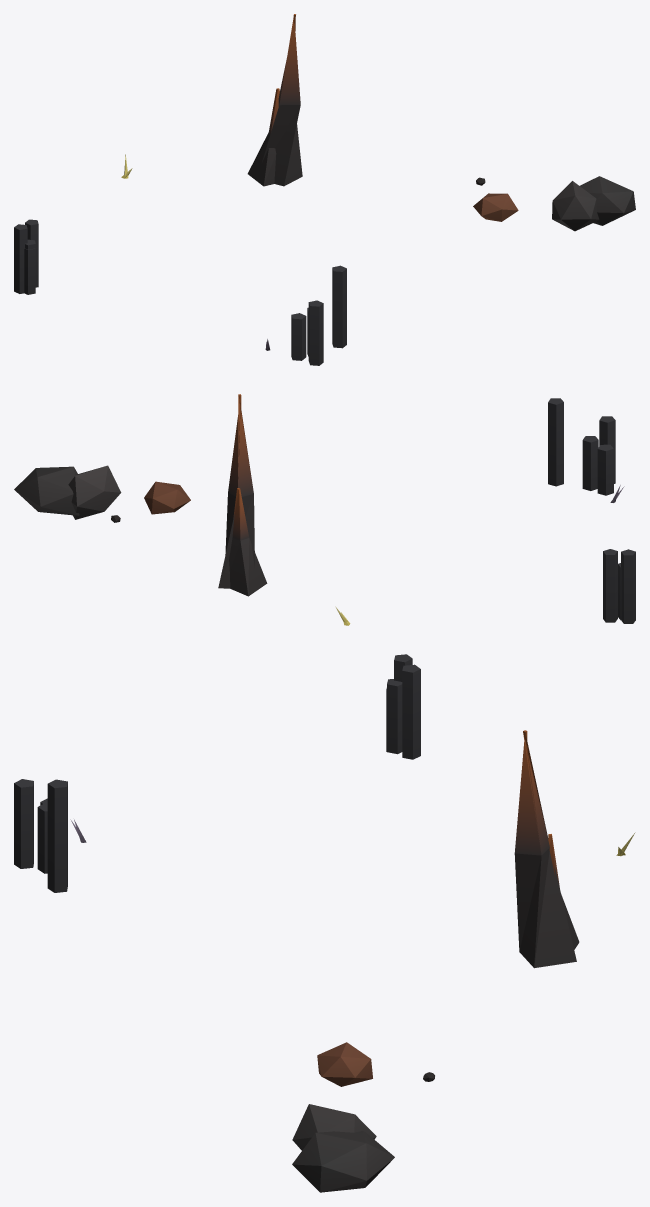
File: ash_land_scatter_c17_29_lod1.glb
3 views of the same model, one above another, from view 1: azimuth 30°, elevation 25°; view 2: azimuth 150°, elevation 25°; view 3: azimuth 270°, elevation 25° (orthographic). The views are drawn at different scales.
Visible parts, largest first — view 1: ash_land_scatter_c17_29_lod1; view 2: ash_land_scatter_c17_29_lod1; view 3: ash_land_scatter_c17_29_lod1.
Boxes of the visible parts, <box> form: ash_land_scatter_c17_29_lod1: <box>14,14,635,365</box>; ash_land_scatter_c17_29_lod1: <box>14,394,635,625</box>; ash_land_scatter_c17_29_lod1: <box>14,654,635,1192</box>.
Bounding box in the file's own units: 63.94 × 22.15 × 42.28.
